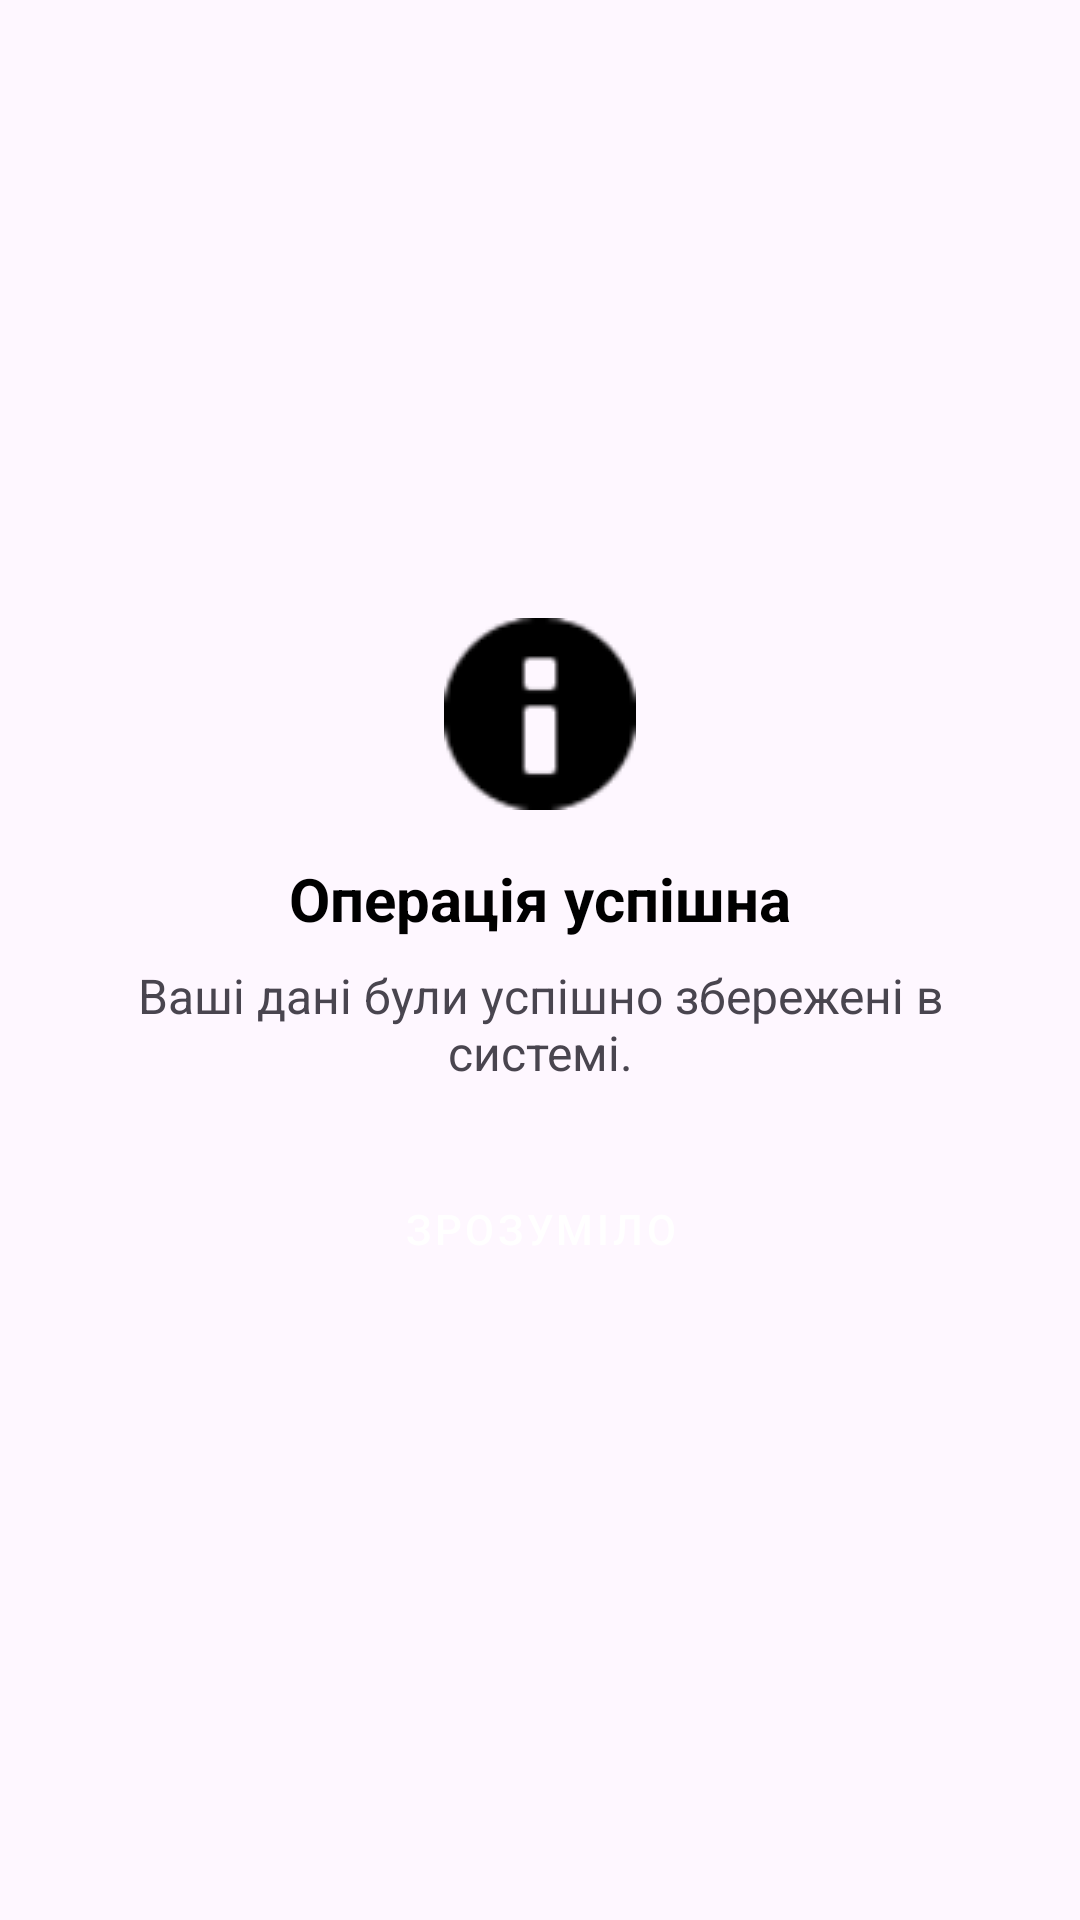

Icon bounding boxes for this 1080w x 1920h phone screenshot, format {"left": x1, "top": y1, "right": x2, "bottom": y2}:
info: {"left": 444, "top": 618, "right": 636, "bottom": 810}
